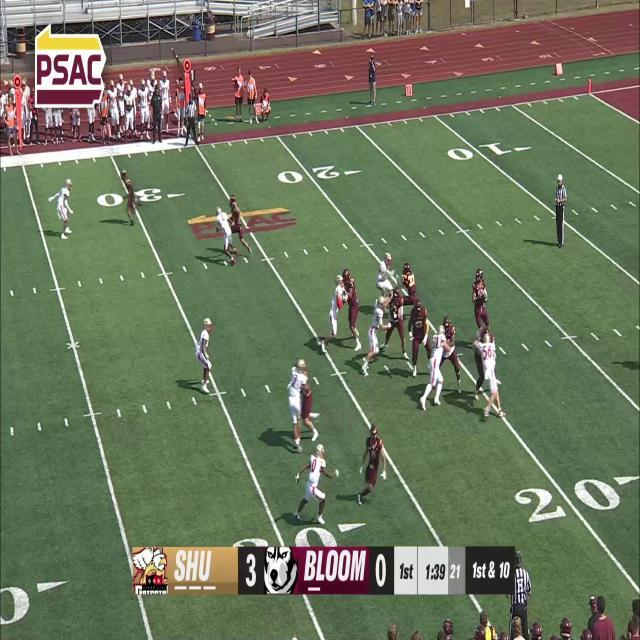football: (480, 290, 488, 302)
